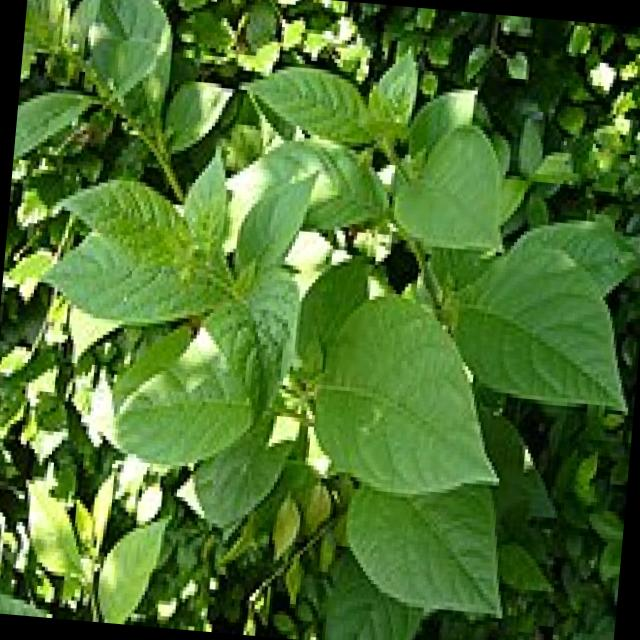Belladonna: (0, 3, 640, 606), (242, 112, 630, 640), (42, 112, 338, 490)
